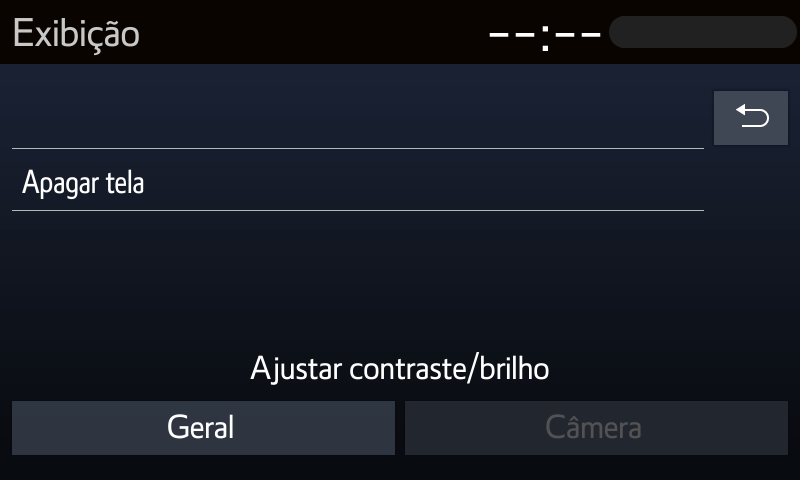touchPart: (11, 399, 397, 459), (714, 88, 792, 154)
untouchPart: (405, 397, 793, 462), (460, 8, 796, 54), (241, 342, 557, 388), (9, 11, 154, 54)
